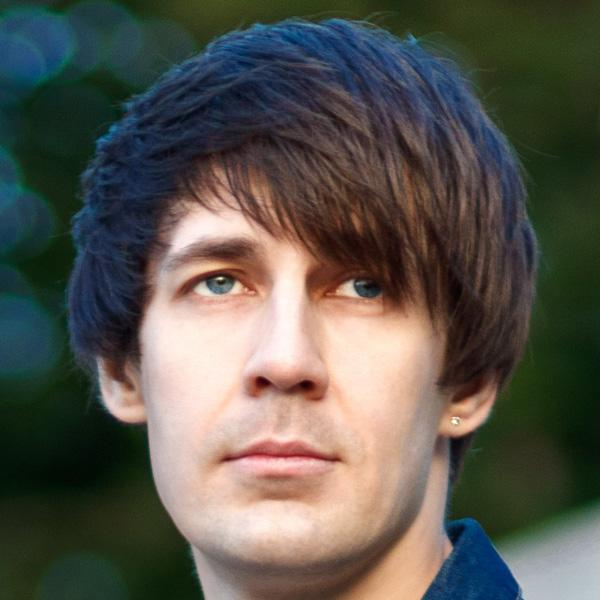Eyes: (312, 261, 410, 317), (169, 261, 264, 312)
